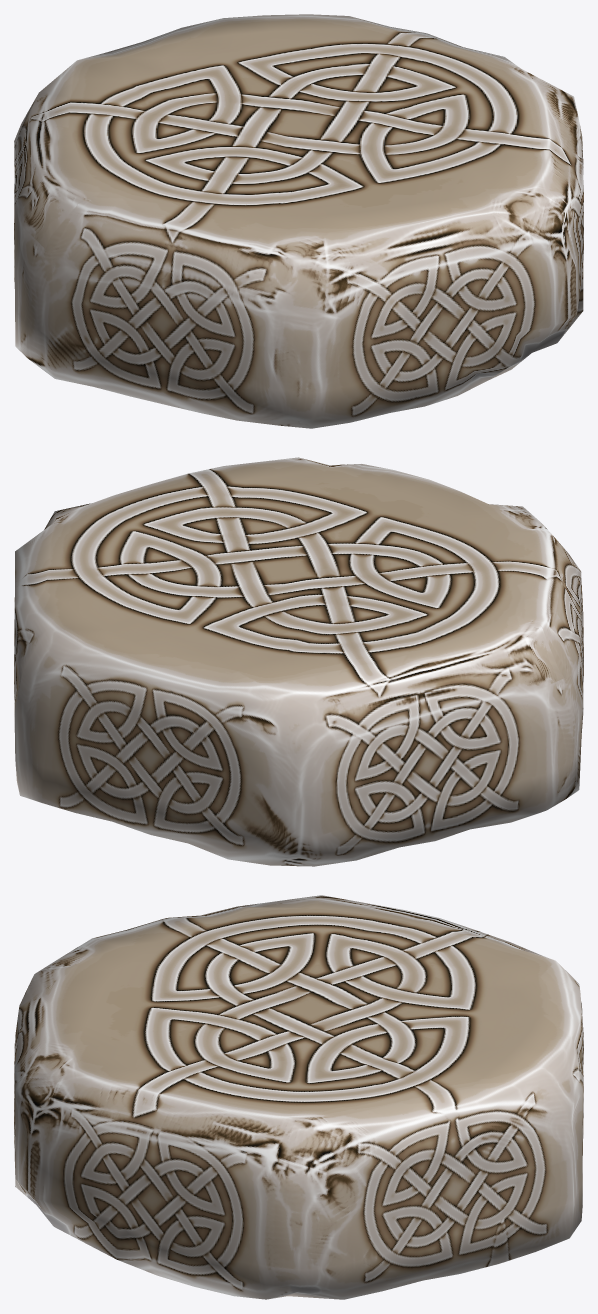
File: AncRockF.fbx
3 renders of one model, top to bottom at view 1: azimuth 30°, elevation 25°; view 2: azimuth 150°, elevation 25°; view 3: azimuth 270°, elevation 25°, orthographic.
Visible parts, largest first — view 1: AncRock_LOD0; view 2: AncRock_LOD0; view 3: AncRock_LOD0.
Boxes of the visible parts, x1=… form: AncRock_LOD0: x1=14, y1=14, x2=583, y2=428; AncRock_LOD0: x1=14, y1=457, x2=583, y2=866; AncRock_LOD0: x1=14, y1=895, x2=583, y2=1299.
Size of what is drawn, in the model's own units: 455 by 142 by 414.
